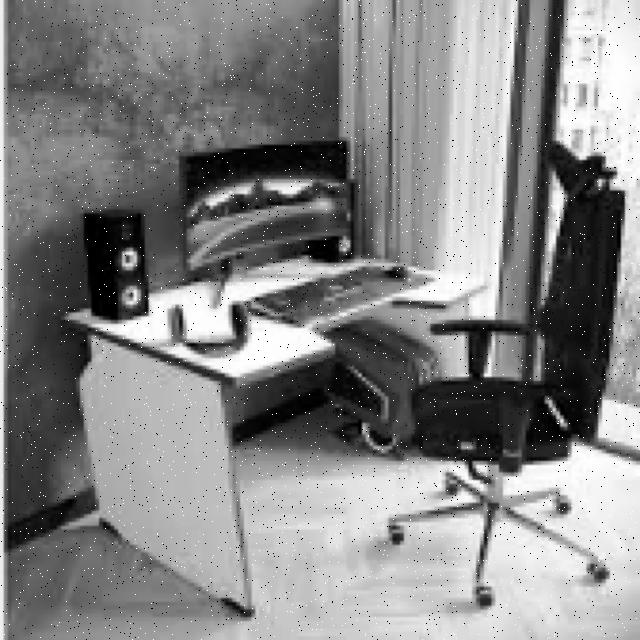book: (385, 137, 625, 606)
table: (57, 252, 488, 614)
